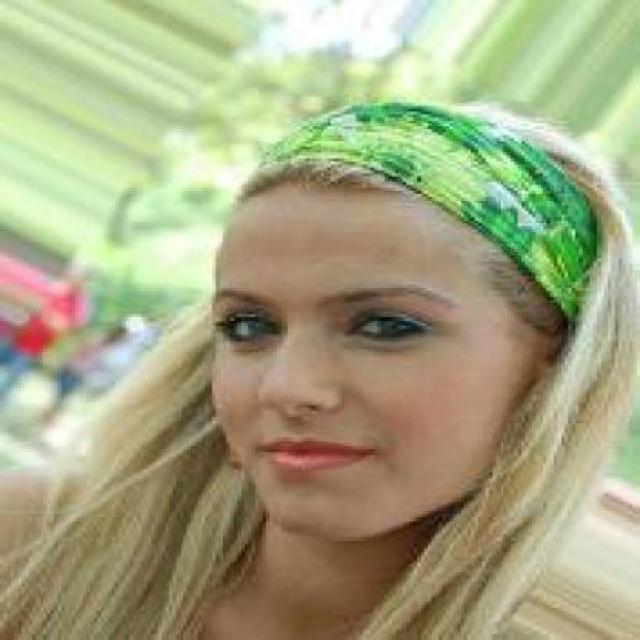closed-mouth: (255, 424, 393, 478)
